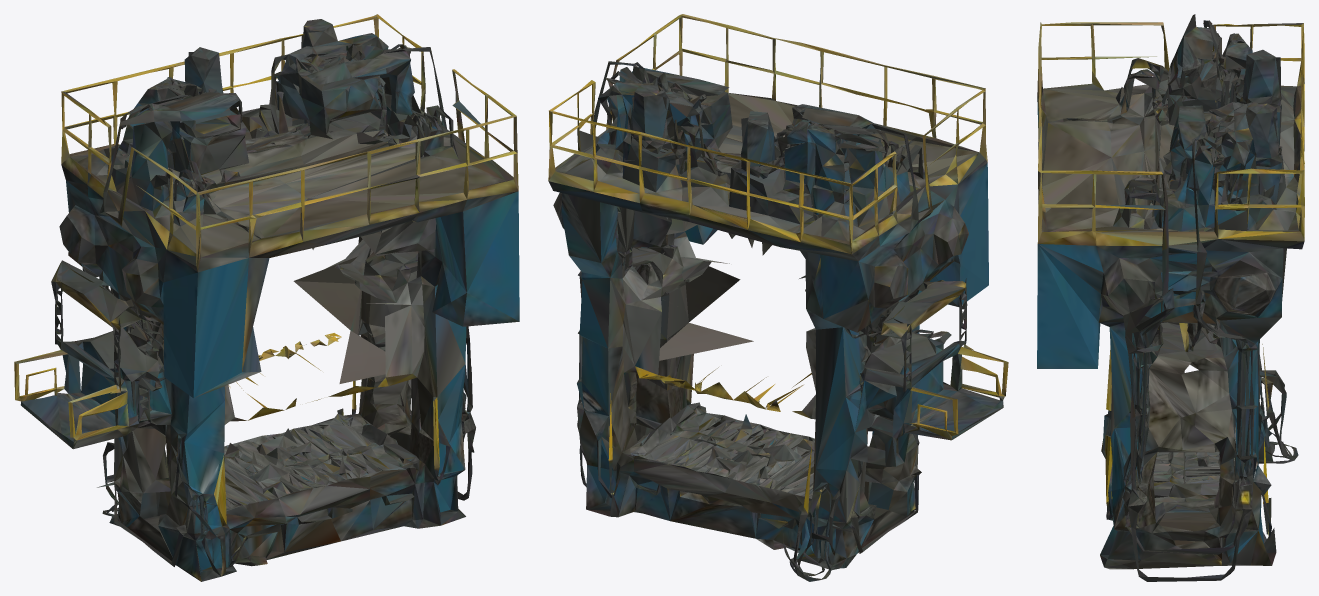
File: prensa.glb
3 renders of one model, left to right at view 1: azimuth 30°, elevation 25°; view 2: azimuth 150°, elevation 25°; view 3: azimuth 270°, elevation 25°, orthographic. The views are drawn at different scales.
Visible parts, largest first — view 1: d.obj; view 2: d.obj; view 3: d.obj.
Boxes of the visible parts, bbox=[...] form: d.obj: bbox=[14, 14, 519, 581]; d.obj: bbox=[548, 14, 1008, 581]; d.obj: bbox=[1037, 14, 1304, 581].
Bounding box in the file's own units: 1.79 × 1.88 × 1.05.
1 material, 1 textured.
